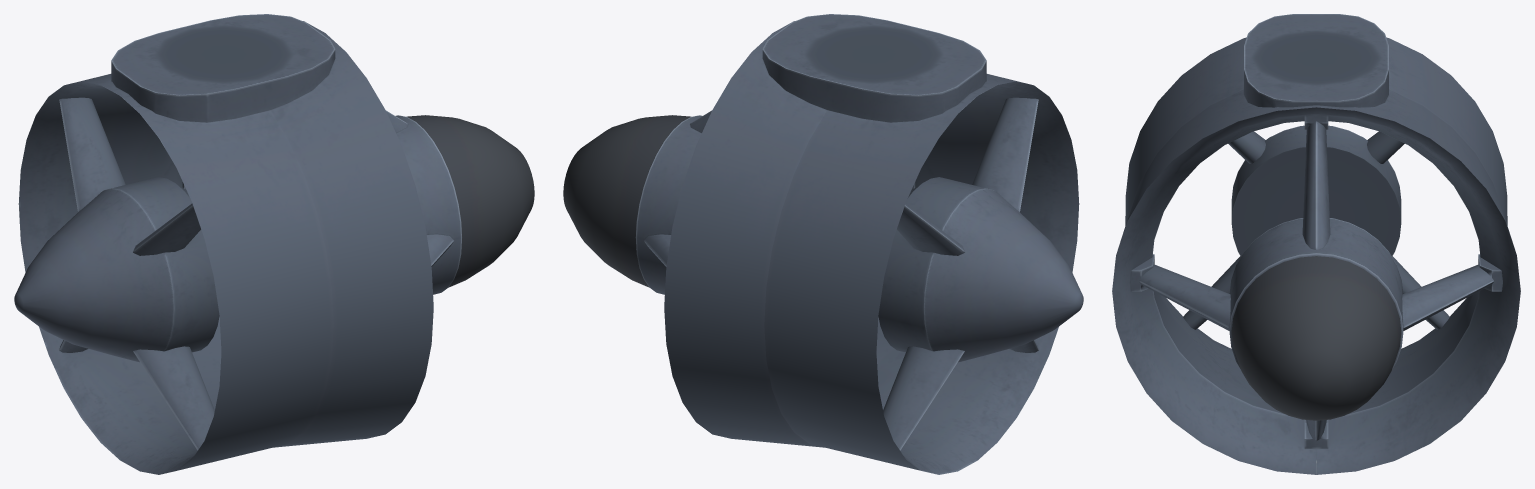
File: housing.dae
3 views of the same model, side by side, from view 1: azimuth 30°, elevation 25°; view 2: azimuth 150°, elevation 25°; view 3: azimuth 270°, elevation 25° (orthographic). The views are drawn at different scales.
Parts seen in each view (by area): view 1: Thruster0081; view 2: Thruster0081; view 3: Thruster0081.
Part boxes in pixels (left/top/right/bottom): Thruster0081: left=14, top=14, right=534, bottom=474; Thruster0081: left=563, top=14, right=1083, bottom=474; Thruster0081: left=1112, top=14, right=1520, bottom=474.
Size of the model in its own units: 15.49 by 11.3 by 11.3.
1 material, 1 textured.
